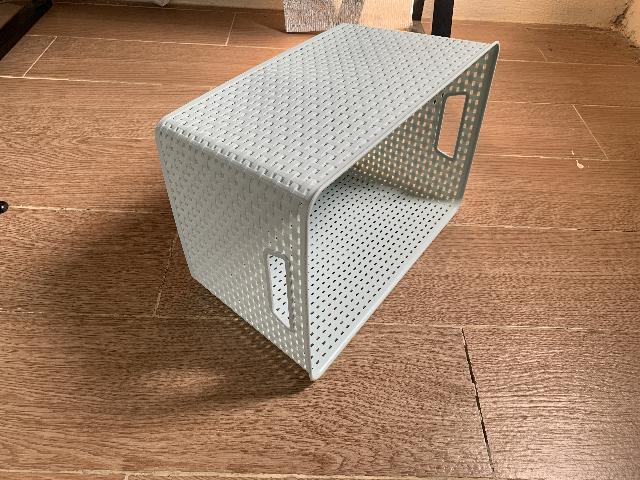cart: (153, 24, 502, 381)
